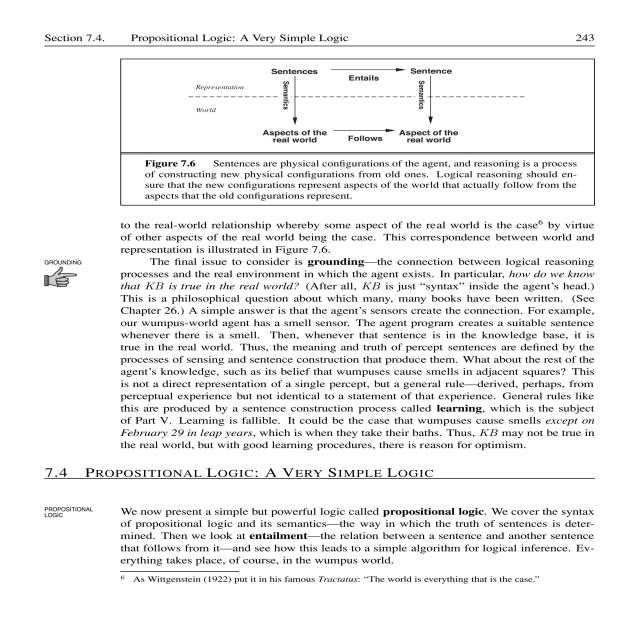diagram: (90, 52, 640, 209)
